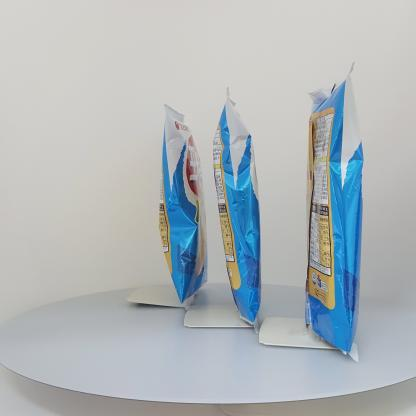Plastic Packaging: (303, 62, 369, 360), (152, 100, 210, 312), (216, 93, 266, 335)
